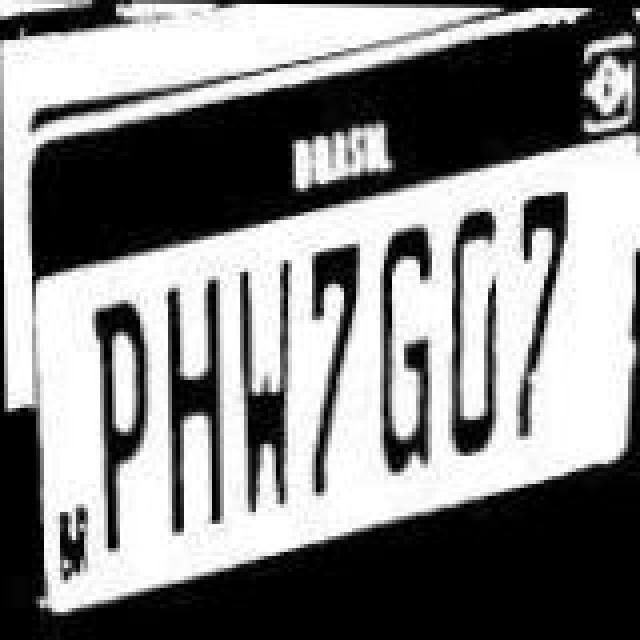7: (506, 182, 582, 446), (296, 232, 368, 496)
D: (438, 200, 506, 460)
G: (370, 216, 446, 480)
H: (158, 276, 226, 536)
P: (88, 294, 152, 558)
W: (226, 250, 294, 514)
